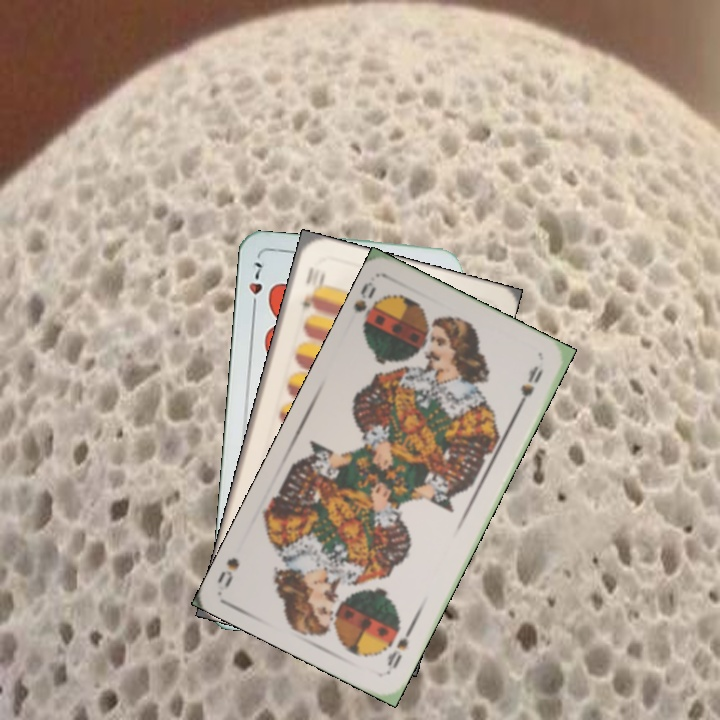E10: (298, 263, 325, 310)
H7: (244, 258, 265, 314)
SO: (349, 277, 386, 336), (383, 619, 417, 672)
